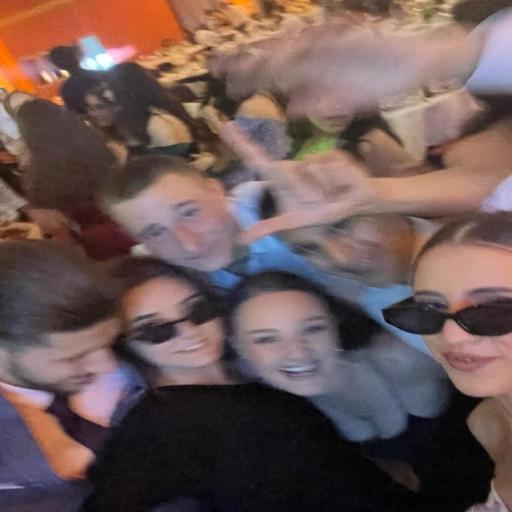marija: (238, 298, 346, 397)
masa: (414, 246, 512, 398)
